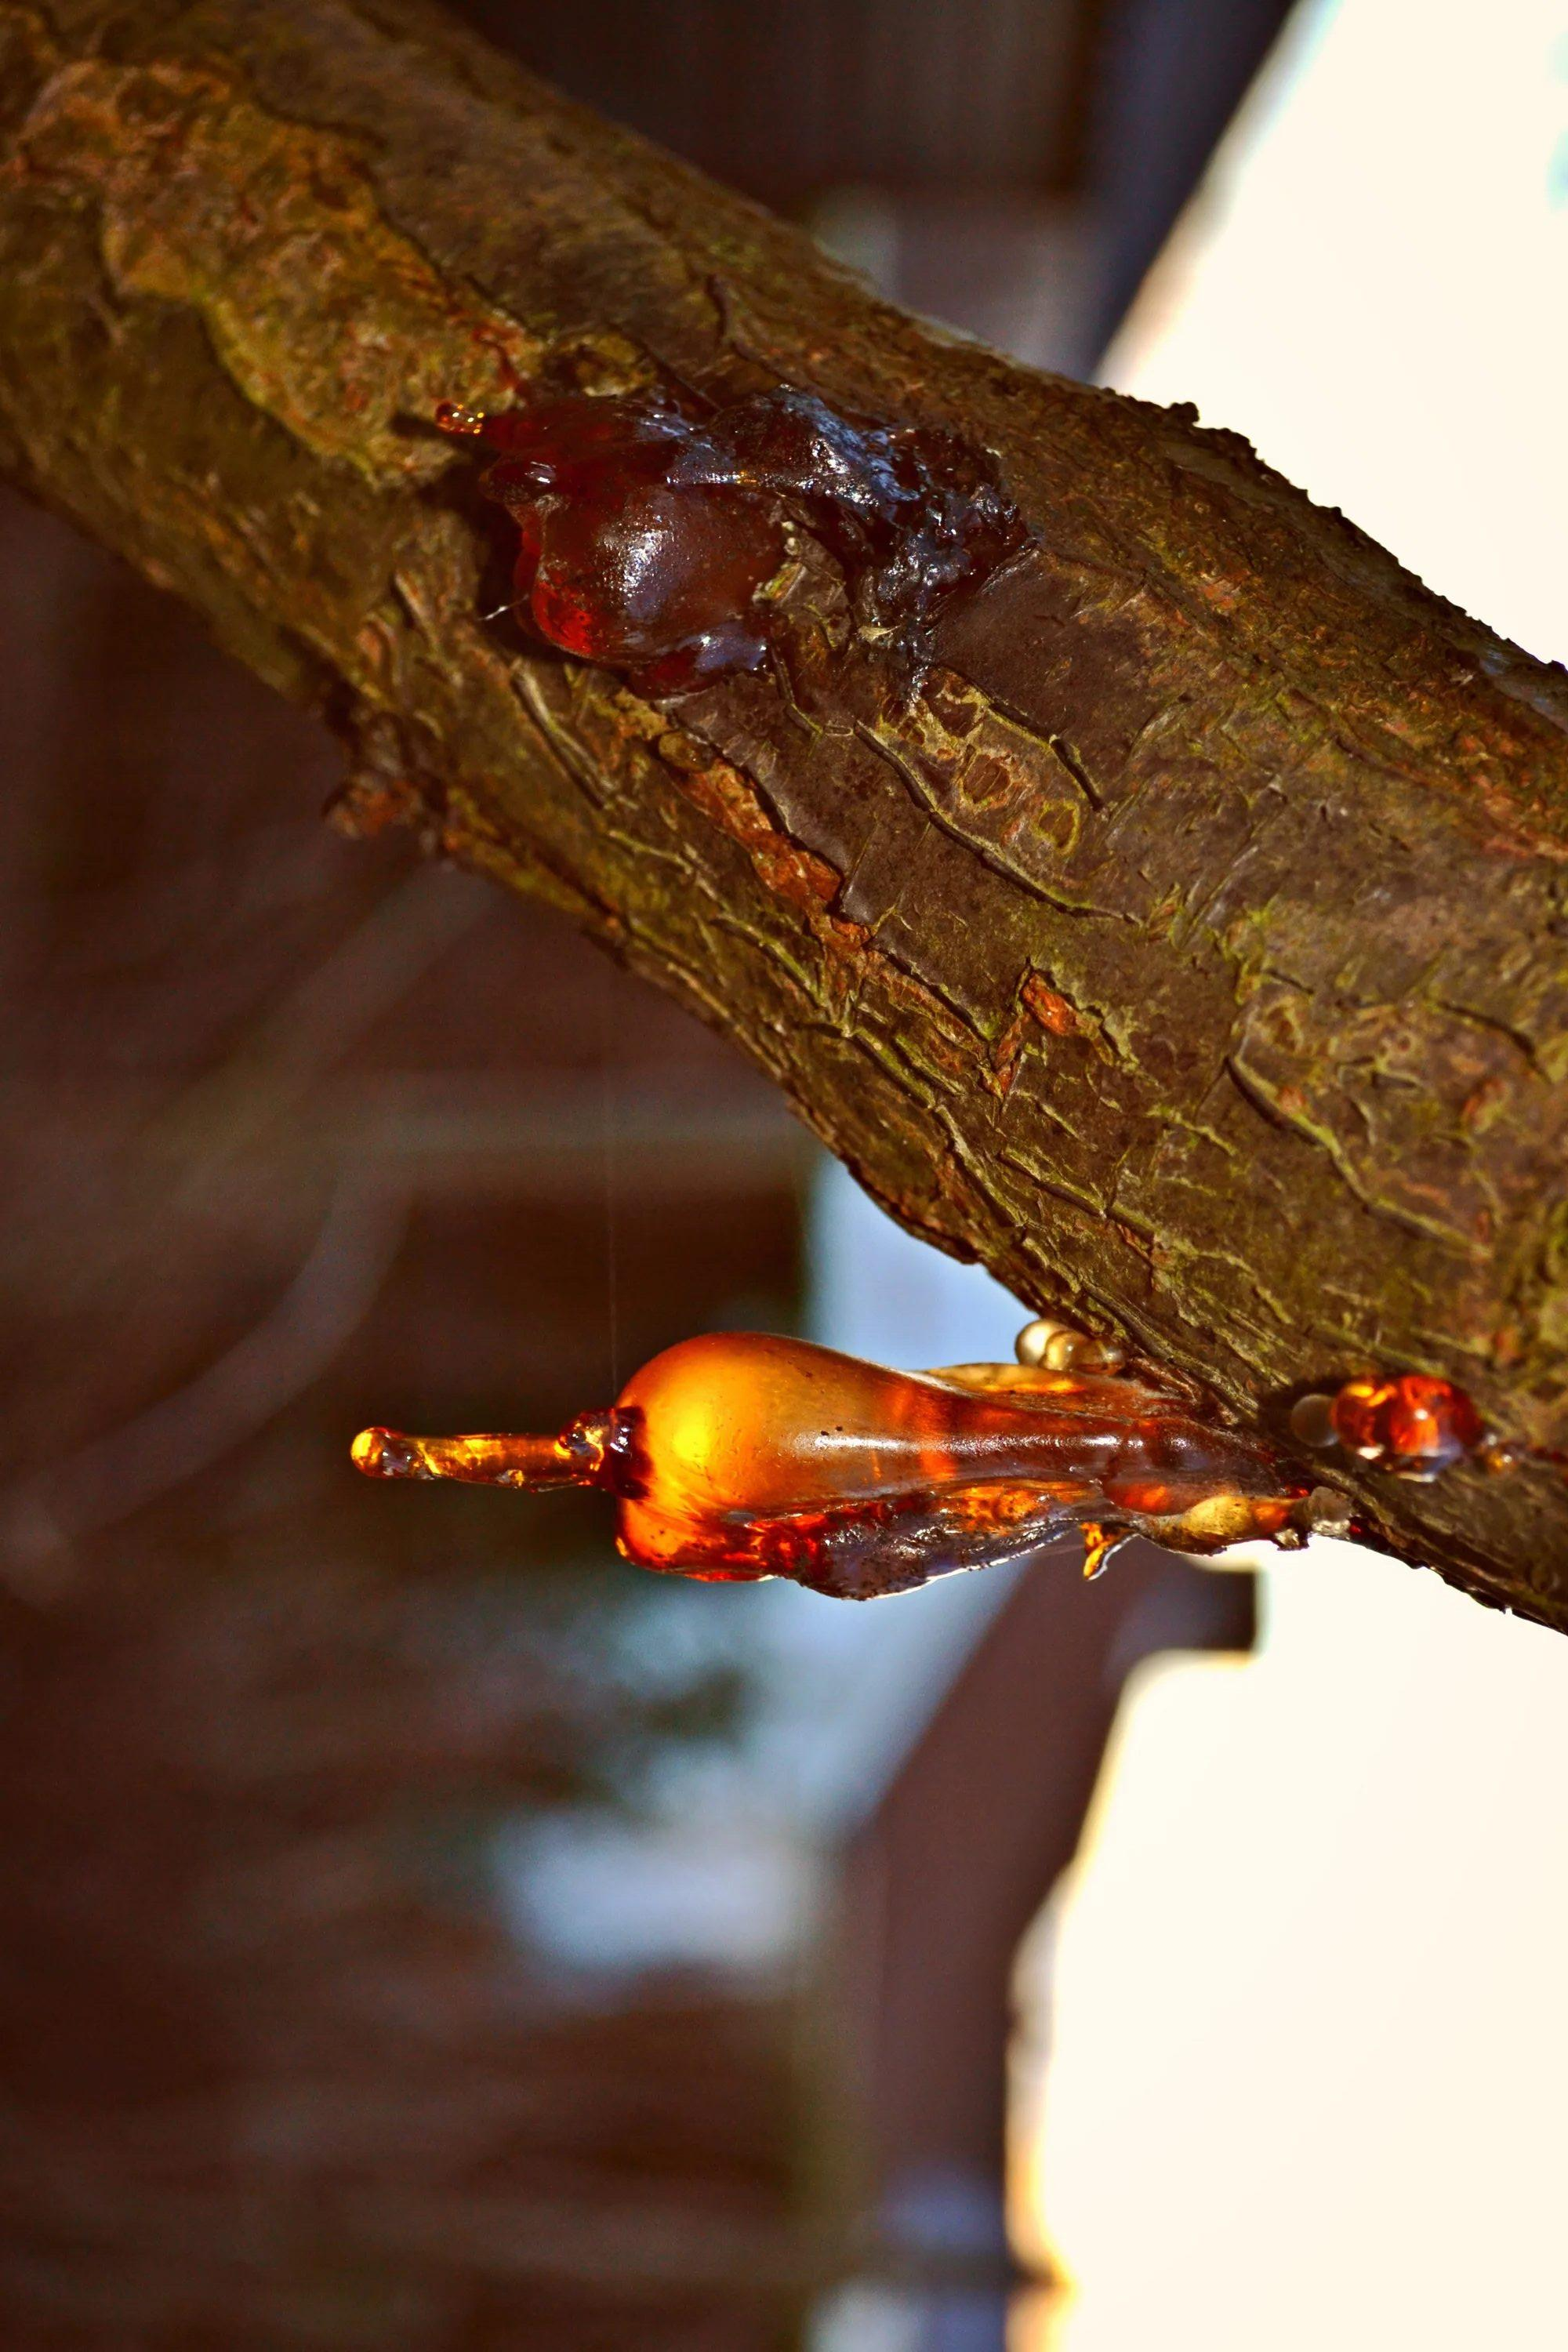gommosis: (354, 1332, 1314, 1601), (438, 387, 1024, 695), (1292, 1374, 1484, 1482)
